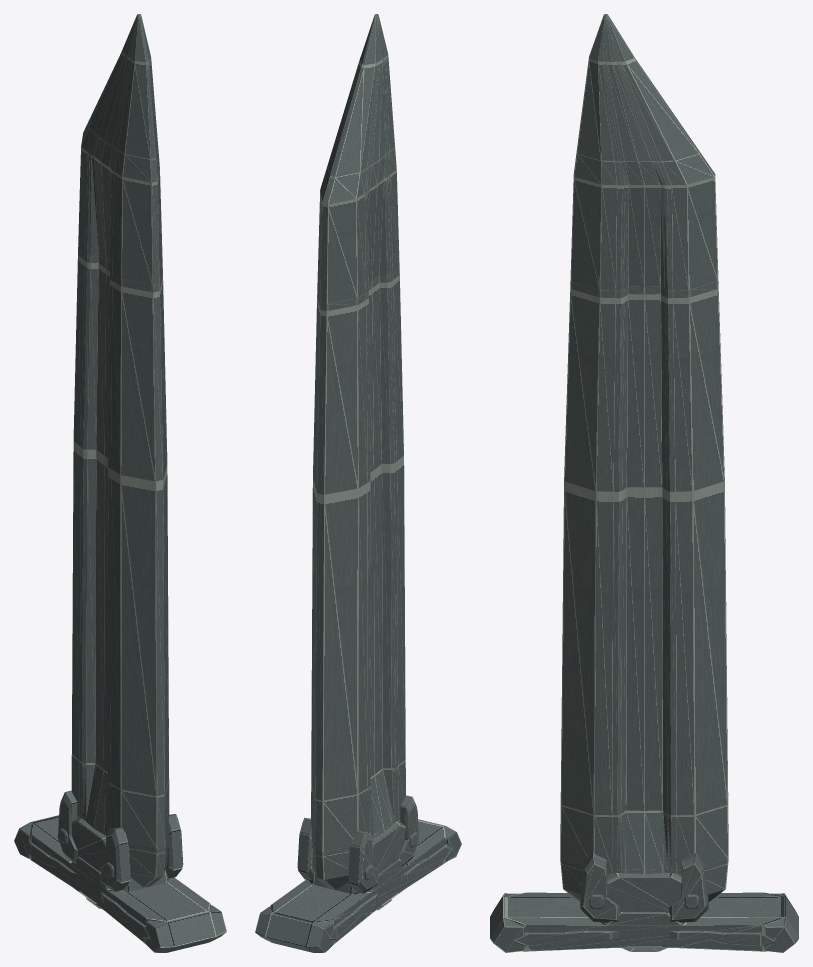
File: workpiece_xuantie_sword_shaped.obj
3 views of the same model, side by side, from view 1: azimuth 30°, elevation 25°; view 2: azimuth 150°, elevation 25°; view 3: azimuth 270°, elevation 25° (orthographic). The views are drawn at different scales.
Parts seen in each view (by area): view 1: geometry; view 2: geometry; view 3: geometry.
Boxes of the visible parts, bbox=[...] form: geometry: bbox=[14, 14, 226, 952]; geometry: bbox=[255, 14, 461, 952]; geometry: bbox=[490, 14, 798, 952].
Bounding box in the file's own units: 0.0925 × 1.13 × 0.3412.
